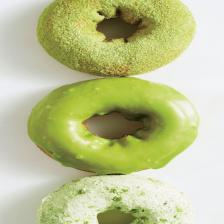green: (27, 77, 199, 175), (36, 0, 196, 76)
